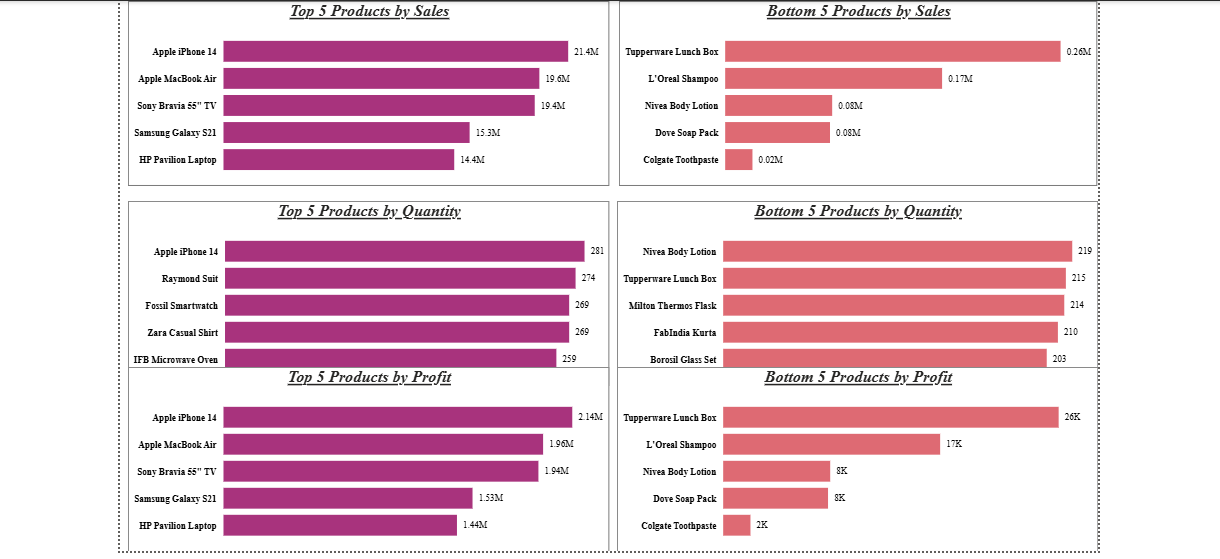

What the dashboard file says about the page in this screenshot:
{"tool":"powerbi","page":{"name":"Top/Bottom 5 Analysis","canvas":[1280,720],"ordinal":0},"visuals":[{"type":"barChart","title":"Top 5 Products by Sales","fields":{"Category":["Dim Product.Product Name"],"Y":["Sum(Fact Table.Net Sales  )"]},"box":[10.3,0,630.4,242.4],"z":0},{"type":"barChart","title":"Bottom 5 Products by Sales","fields":{"Category":["Dim Product.Product Name"],"Y":["Sum(Fact Table.Net Sales  )"]},"box":[653.9,0,626,242.4],"z":1},{"type":"barChart","title":"Top 5 Products by Quantity","fields":{"Category":["Dim Product.Product Name"],"Y":["Sum(Fact Table.Units Sold)"]},"box":[10.1,262,629.9,241.9],"z":2},{"type":"barChart","title":"Bottom 5 Products by Quantity","fields":{"Category":["Dim Product.Product Name"],"Y":["Sum(Fact Table.Units Sold)"]},"box":[650.1,262,629.9,241.9],"z":3},{"type":"barChart","title":"Top 5 Products by Profit","fields":{"Category":["Dim Product.Product Name"],"Y":["Sum(Fact Table.Profit)"]},"box":[10.1,478.7,629.9,241.9],"z":4},{"type":"barChart","title":"Bottom 5 Products by Profit","fields":{"Category":["Dim Product.Product Name"],"Y":["Sum(Fact Table.Profit)"]},"box":[650.1,478.7,629.9,241.9],"z":5}]}

Visuals, with their boxes on the page's 1280x720 design canvas (x1, y1, x2, y2). These are canvas units, not pixel positions in the 1220x559 screenshot, which may show the page scaled, cropped or inside an application window:
"Top 5 Products by Sales" barChart: [x1=10, y1=0, x2=641, y2=242]
"Bottom 5 Products by Sales" barChart: [x1=654, y1=0, x2=1280, y2=242]
"Top 5 Products by Quantity" barChart: [x1=10, y1=262, x2=640, y2=504]
"Bottom 5 Products by Quantity" barChart: [x1=650, y1=262, x2=1280, y2=504]
"Top 5 Products by Profit" barChart: [x1=10, y1=479, x2=640, y2=721]
"Bottom 5 Products by Profit" barChart: [x1=650, y1=479, x2=1280, y2=721]
